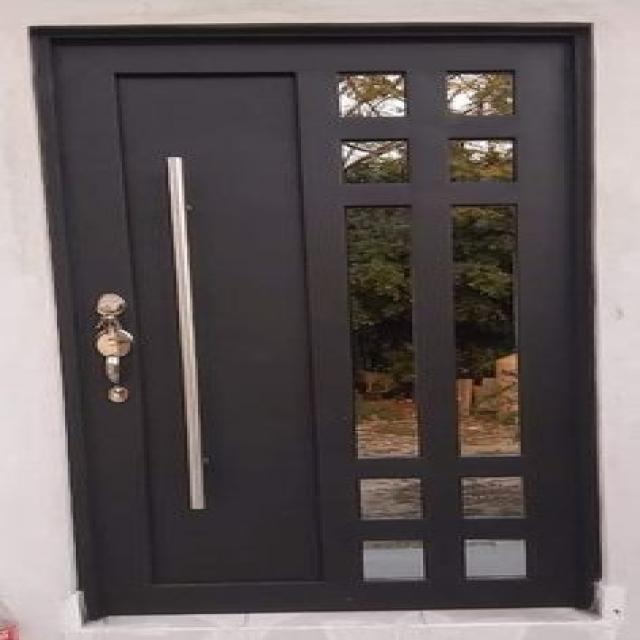door: (31, 23, 601, 618)
